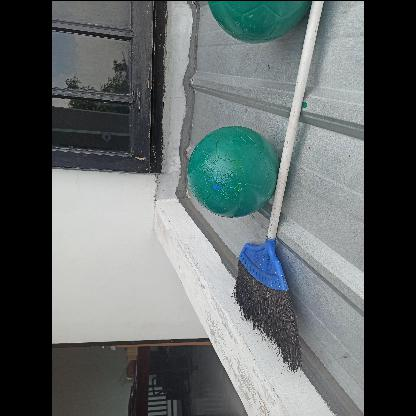green_ball: (186, 123, 280, 217)
